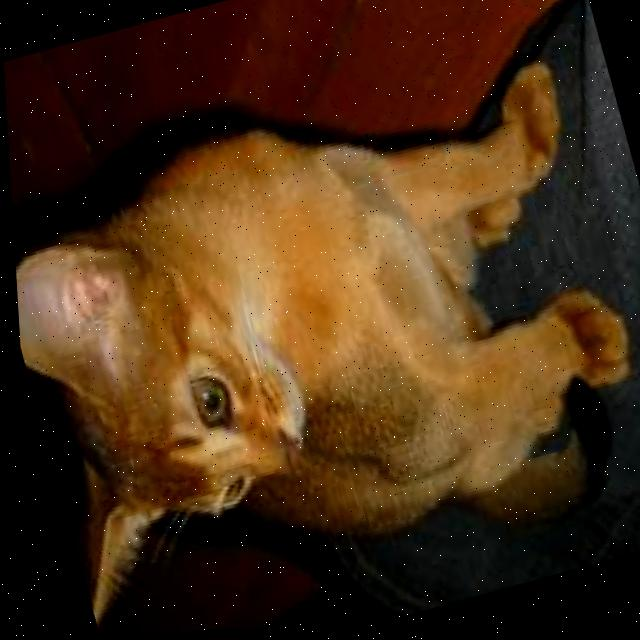Abyssinian: (3, 24, 640, 640)
